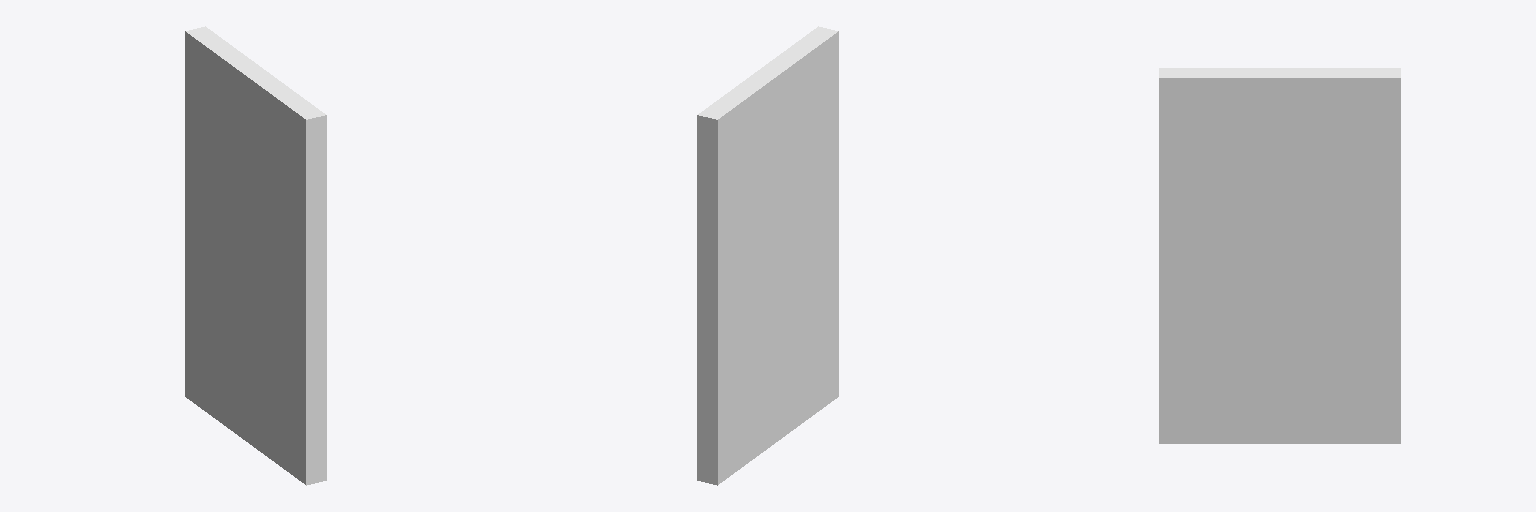
File: WireBox_Cover.obj
The picture shows the model from 3 angles: view 1: azimuth 30°, elevation 25°; view 2: azimuth 150°, elevation 25°; view 3: azimuth 270°, elevation 25°; orthographic projection.
Visible parts, largest first — view 1: WireBox_Cover; view 2: WireBox_Cover; view 3: WireBox_Cover.
Boxes of the visible parts, x1=… form: WireBox_Cover: x1=185, y1=26, x2=326, y2=485; WireBox_Cover: x1=697, y1=26, x2=838, y2=485; WireBox_Cover: x1=1159, y1=68, x2=1400, y2=443.
Bounding box in the file's own units: 0.0735 × 1.27 × 0.762.